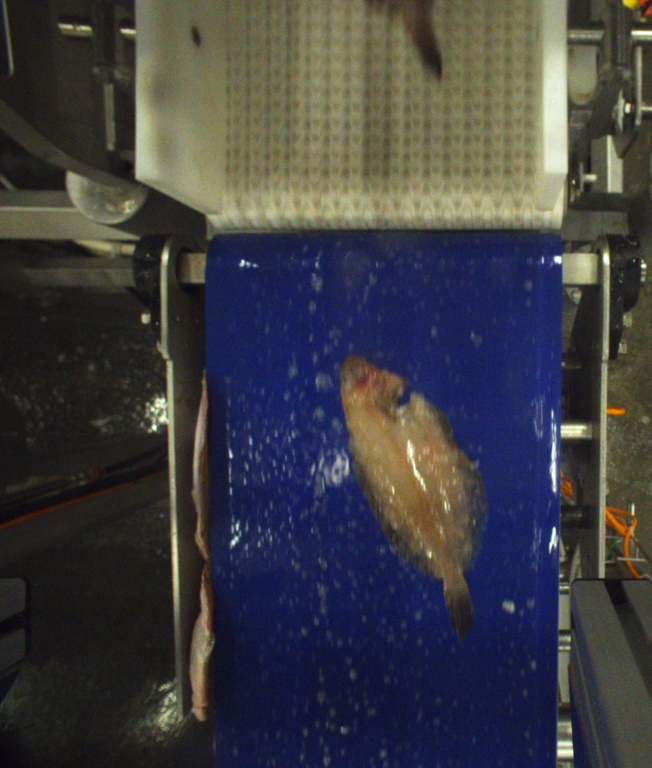WIT: (336, 354, 478, 628)
